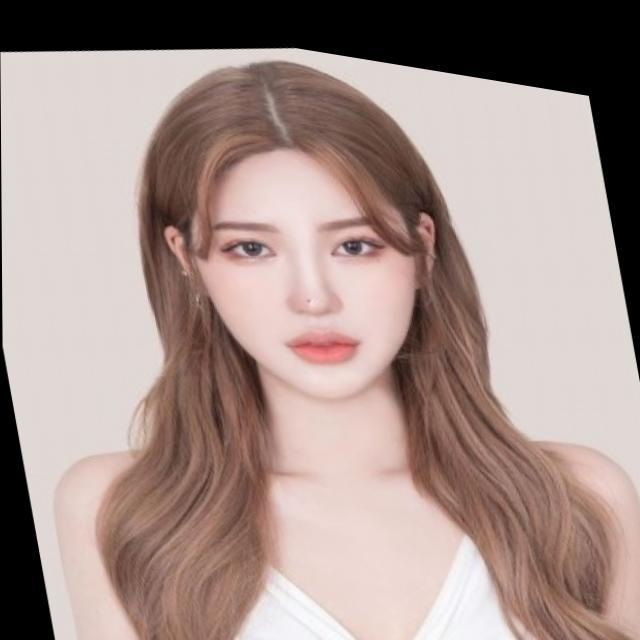Nonhelmet: (126, 48, 499, 411)
